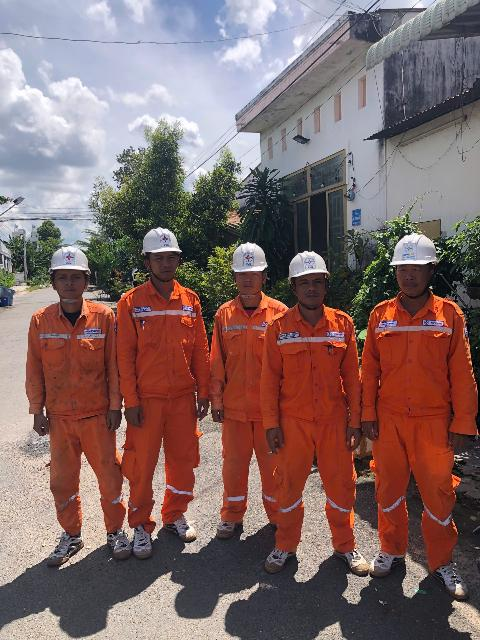helmet: (388, 230, 446, 272), (128, 229, 196, 259), (229, 242, 273, 281), (44, 248, 95, 280), (286, 250, 333, 284)
shoes: (419, 551, 472, 604), (46, 527, 85, 569), (266, 539, 305, 578), (328, 539, 369, 576), (369, 539, 404, 577), (126, 522, 155, 564), (158, 516, 201, 543), (211, 508, 246, 541), (106, 528, 133, 563)
